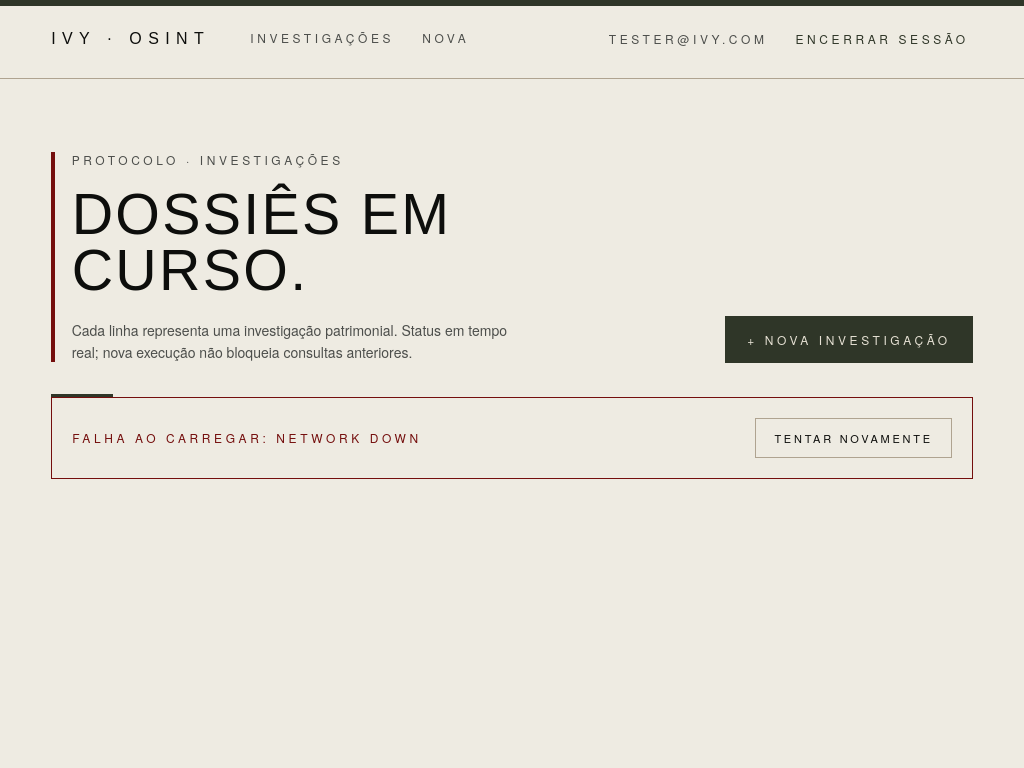
<Lista> integração › mostra erro e botão de retry quando listar rejeita
This screenshot has width=1024, height=768.
Expected: the message reads "Falha ao carregar: Network down Tentar novamente", x1=276 y1=429 x2=422 y2=446
Click the button "Tentar novamente": {"x": 854, "y": 438} x1=755 y1=418 x2=952 y2=458
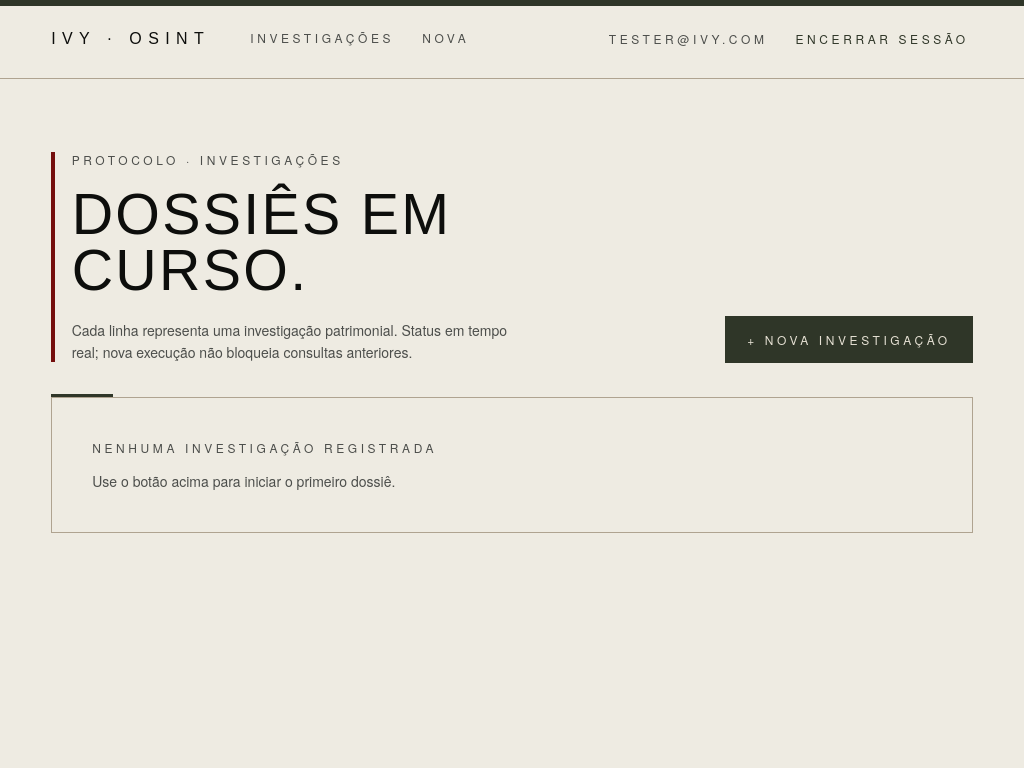
Now the message "Falha ao carregar: Network down Tentar novamente" is gone
